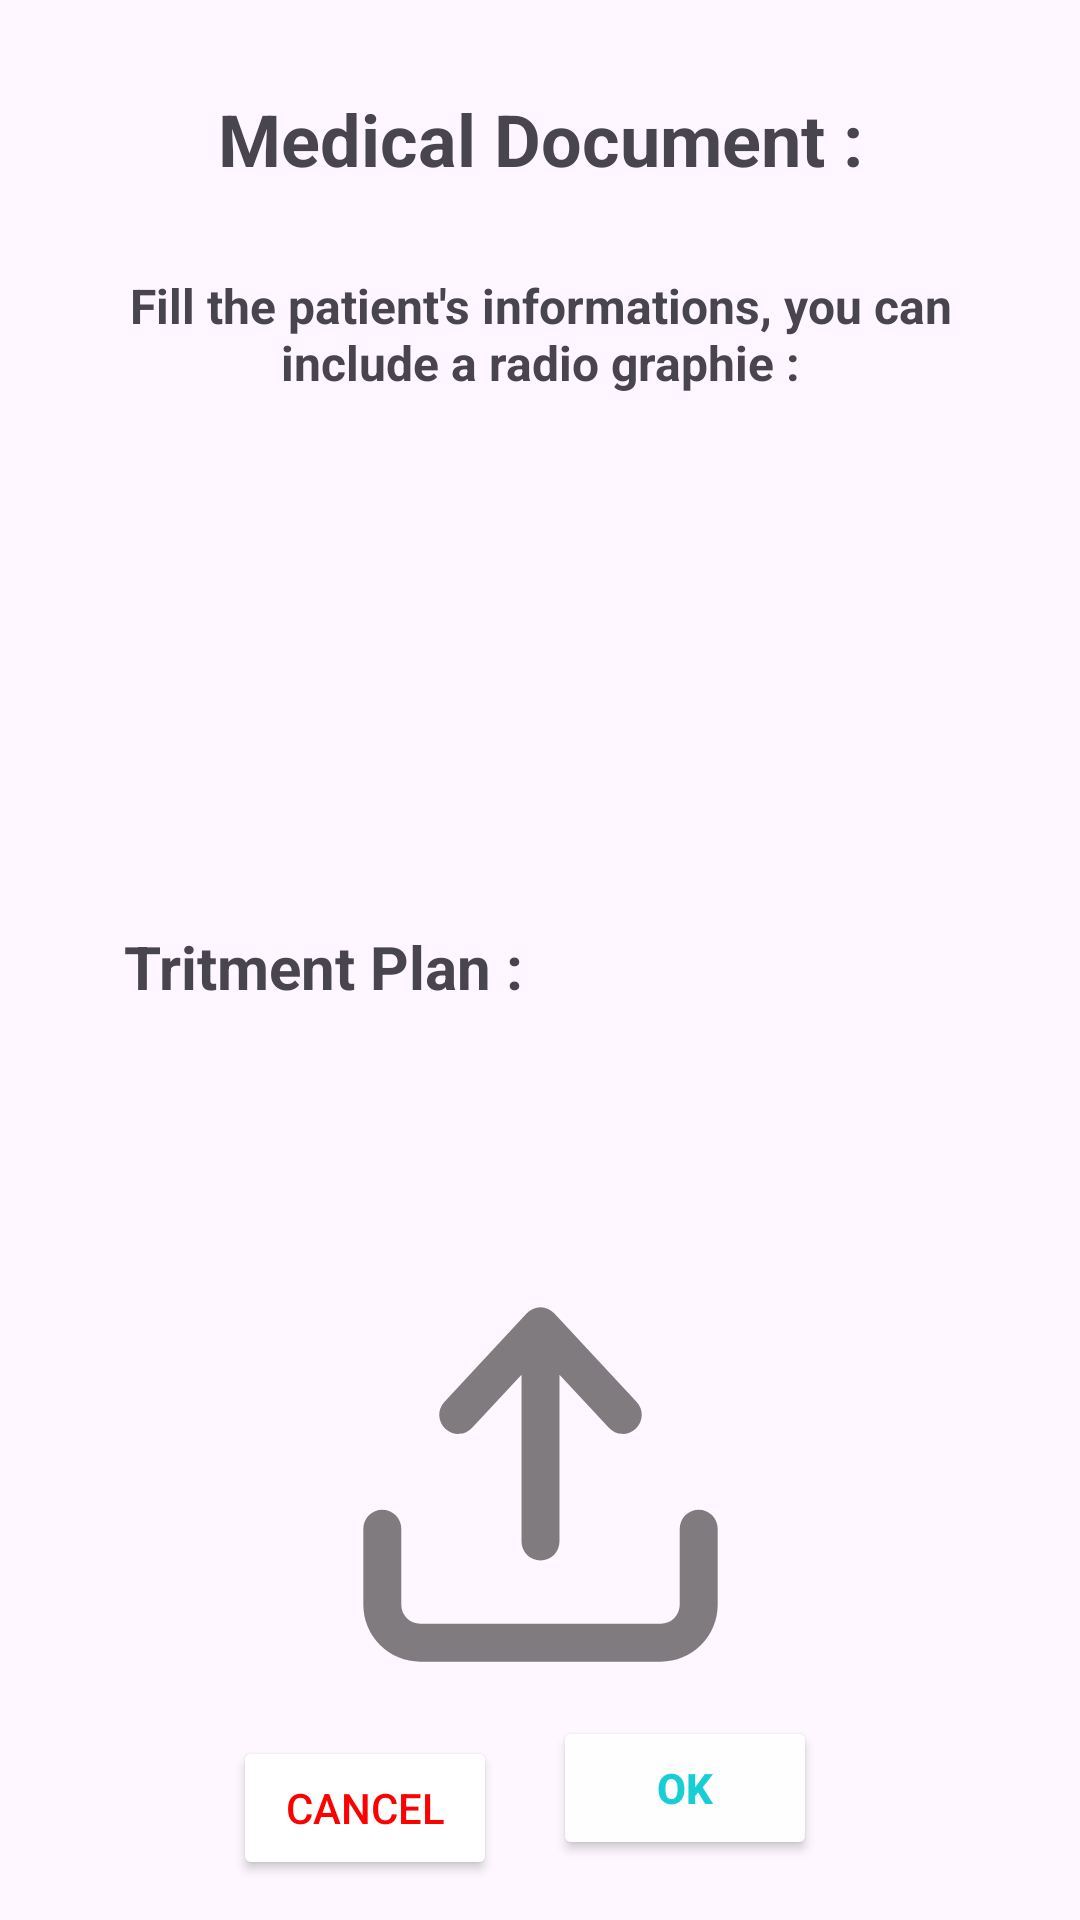

Locate icon controls on the screen. Image size 1080 x 1920, boxes as (x1, y1, x2, y2).
upload: (363, 1307, 718, 1662)
